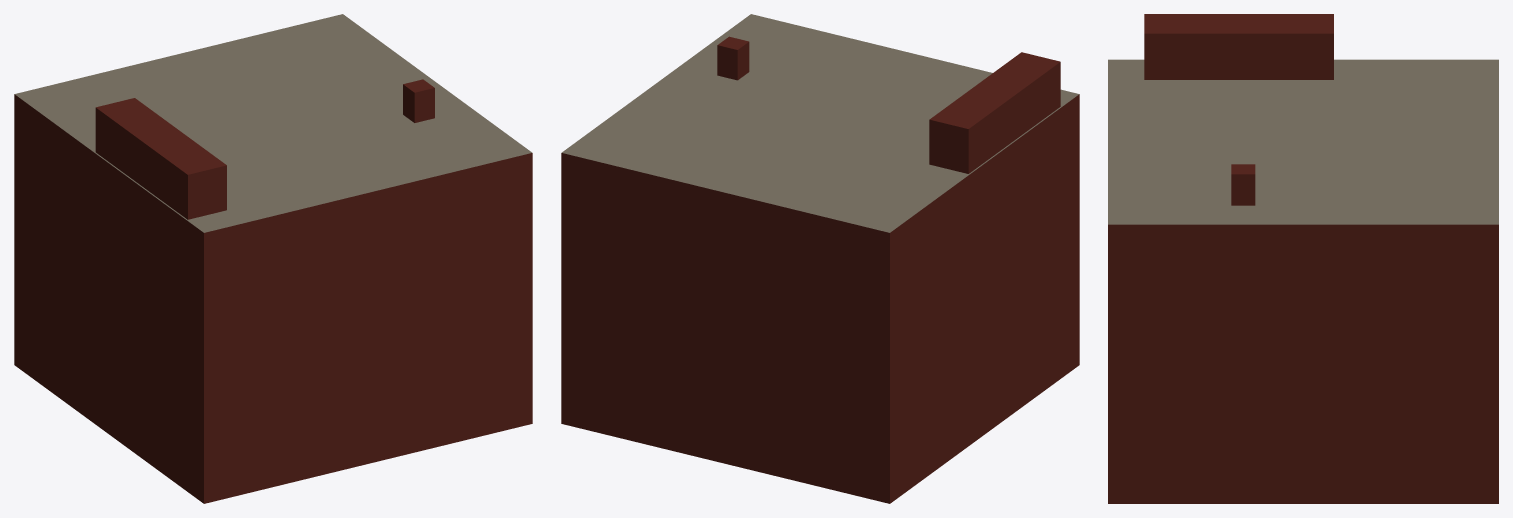
File: mh-corner-tavern.towns-v1.lod2.glb
The picture shows the model from 3 angles, left to right: view 1: azimuth 30°, elevation 25°; view 2: azimuth 150°, elevation 25°; view 3: azimuth 270°, elevation 25°; orthographic projection. The views are drawn at different scales.
Visible parts, largest first — view 1: mh-corner-tavern; view 2: mh-corner-tavern; view 3: mh-corner-tavern.
Boxes of the visible parts, <box> form: mh-corner-tavern: <box>14,14,532,503</box>; mh-corner-tavern: <box>561,14,1079,503</box>; mh-corner-tavern: <box>1108,14,1498,503</box>.
Bounding box in the file's own units: 13 × 11.95 × 13.
